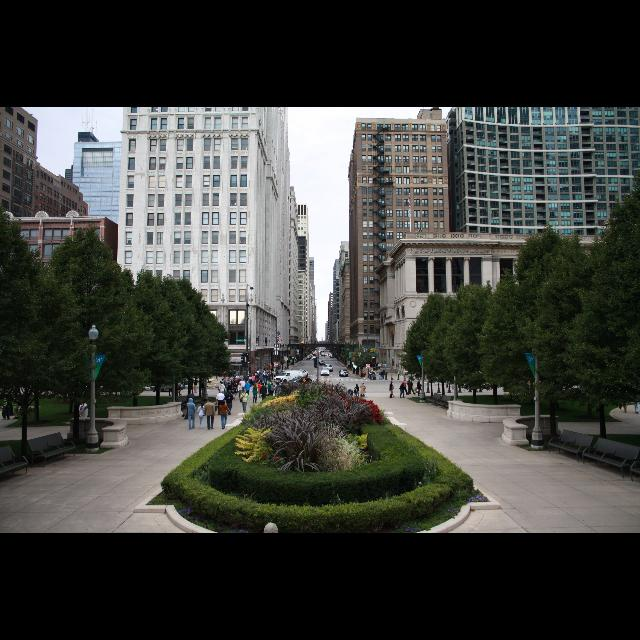head: (6, 394, 10, 400), (82, 400, 86, 404), (187, 396, 191, 400), (207, 399, 211, 403), (12, 394, 15, 398), (222, 400, 224, 406), (255, 384, 258, 388), (190, 399, 192, 403), (244, 390, 246, 394), (239, 382, 241, 386), (228, 378, 230, 382), (265, 382, 267, 386), (362, 382, 364, 386), (402, 382, 404, 386), (200, 404, 203, 406), (220, 391, 222, 394), (228, 391, 230, 394), (232, 386, 234, 389), (234, 381, 236, 384), (240, 381, 242, 384), (280, 381, 282, 384), (418, 381, 420, 384), (168, 383, 170, 385), (179, 385, 181, 387), (195, 378, 197, 380), (190, 377, 192, 379), (203, 381, 205, 383), (228, 383, 230, 385), (221, 382, 223, 384), (247, 382, 249, 384), (241, 379, 243, 381), (235, 379, 237, 381), (232, 378, 234, 380), (224, 380, 226, 382), (222, 379, 224, 381), (230, 378, 232, 380), (237, 375, 239, 377), (216, 374, 218, 376), (247, 379, 249, 381), (259, 382, 261, 384), (262, 384, 264, 386), (269, 381, 271, 383), (272, 384, 274, 386), (276, 383, 278, 385), (253, 374, 255, 376), (249, 374, 251, 376), (260, 374, 262, 376), (264, 374, 266, 376), (266, 374, 268, 376), (272, 371, 274, 373), (257, 370, 259, 372), (355, 388, 357, 390), (356, 385, 358, 387), (391, 382, 393, 384), (391, 381, 393, 383), (404, 379, 406, 381), (410, 381, 412, 383), (409, 377, 411, 379), (224, 372, 226, 373), (250, 377, 252, 378), (363, 371, 365, 372), (372, 371, 373, 373), (382, 371, 383, 372), (240, 376, 242, 376), (256, 376, 258, 376), (260, 376, 262, 376), (270, 373, 270, 375), (272, 364, 272, 366), (386, 372, 386, 372), (380, 372, 380, 372), (370, 372, 370, 374), (374, 372, 376, 372), (378, 364, 379, 364)
person: (76, 398, 90, 436), (204, 398, 216, 432), (185, 398, 197, 430), (218, 400, 230, 430), (196, 402, 208, 431), (223, 390, 235, 418), (0, 394, 12, 421), (184, 395, 196, 421), (214, 390, 226, 416), (10, 394, 20, 421), (240, 389, 250, 415), (259, 382, 269, 404), (198, 380, 210, 398), (400, 378, 410, 396), (187, 376, 195, 396), (218, 382, 226, 402), (236, 382, 244, 402), (243, 381, 251, 401), (252, 384, 260, 404), (266, 380, 274, 400), (388, 380, 396, 400), (408, 380, 418, 396), (406, 376, 414, 396), (192, 377, 200, 395), (226, 382, 234, 400), (238, 378, 246, 396), (398, 382, 406, 400), (416, 379, 424, 396), (224, 378, 232, 394), (244, 378, 252, 394), (359, 382, 366, 400), (263, 382, 269, 402), (230, 386, 237, 402), (232, 380, 238, 398), (233, 378, 239, 396), (278, 380, 284, 398), (388, 381, 394, 399), (168, 384, 175, 398), (236, 380, 242, 396), (257, 382, 263, 398), (270, 382, 276, 398), (273, 382, 279, 398), (177, 384, 183, 398), (230, 378, 236, 392), (222, 379, 228, 393), (354, 384, 360, 398), (239, 375, 245, 387), (248, 376, 254, 388), (250, 374, 256, 386), (258, 374, 264, 386), (262, 374, 268, 386), (220, 379, 224, 395), (228, 378, 232, 392), (236, 375, 240, 387), (248, 374, 252, 386), (354, 387, 358, 399), (265, 372, 269, 383), (255, 375, 259, 385), (260, 374, 264, 384), (268, 372, 272, 382), (270, 371, 274, 381), (384, 370, 388, 380), (378, 371, 382, 381), (363, 370, 367, 380), (371, 370, 375, 380), (256, 369, 260, 378), (368, 372, 372, 381), (377, 363, 381, 371), (270, 364, 272, 374), (382, 370, 384, 380), (216, 374, 218, 382), (224, 372, 226, 380), (374, 371, 376, 379)
